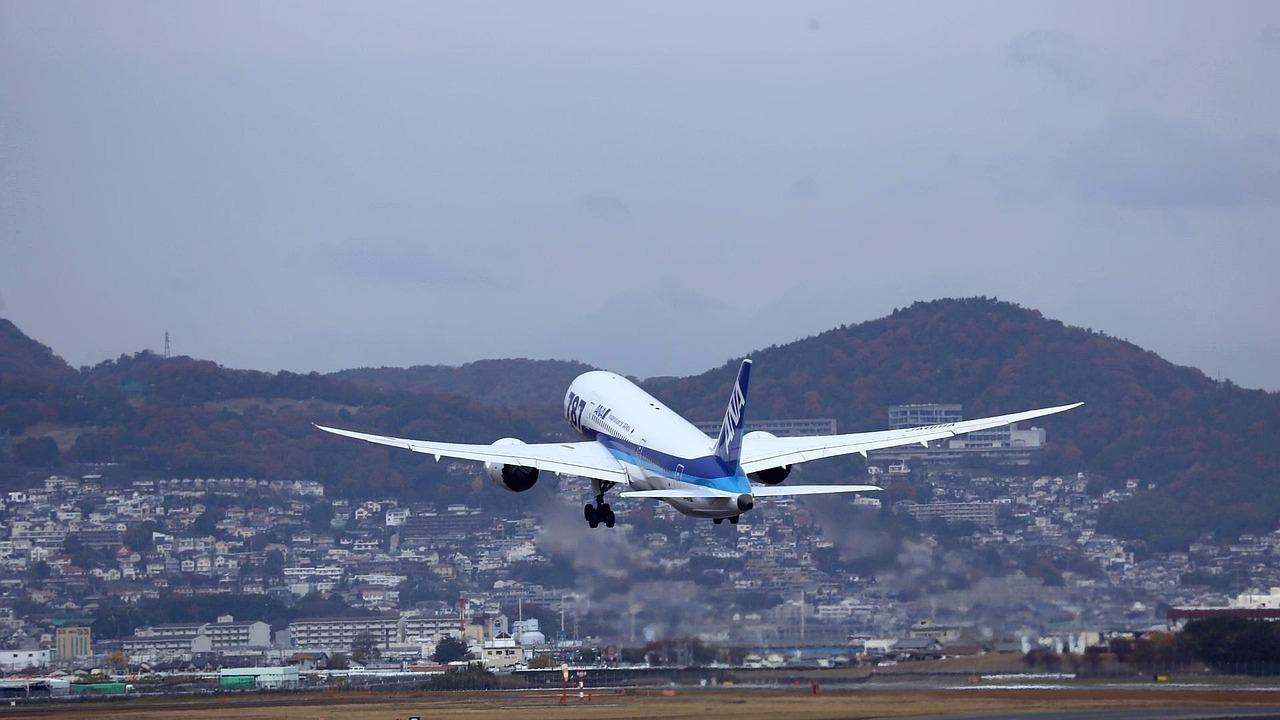Airplane: (296, 344, 1098, 546)
